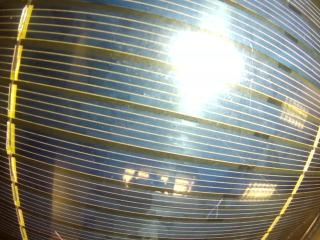crack: (218, 138, 280, 196), (206, 198, 223, 217)
